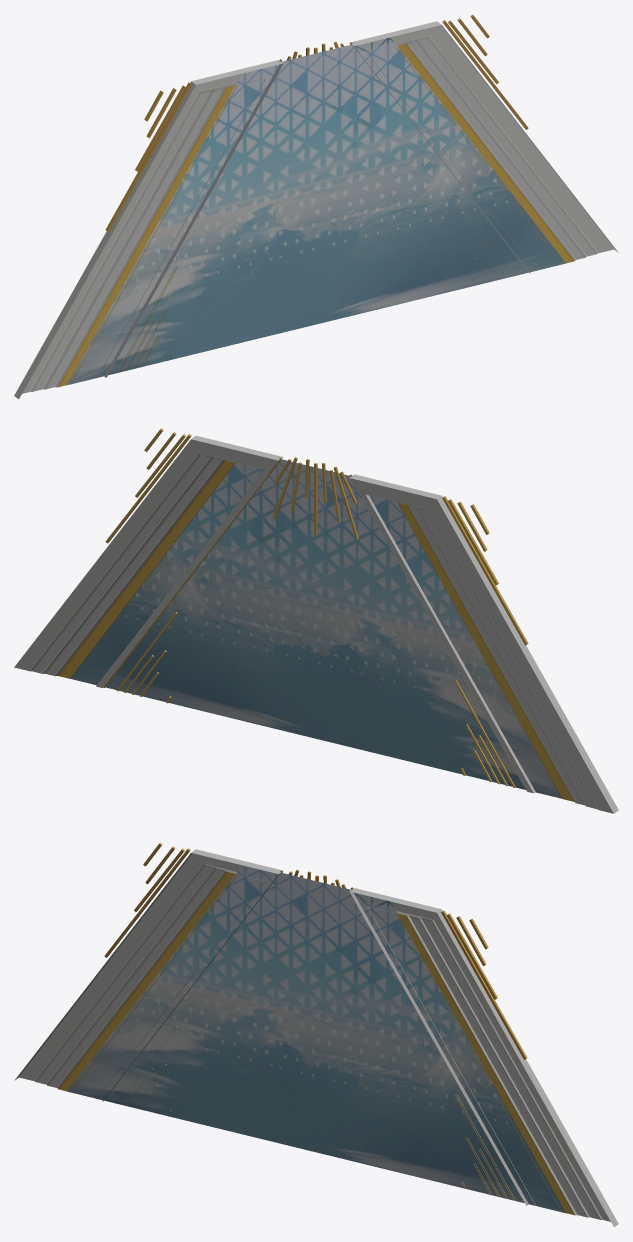
The model's file is furn_ab2024_walldeco02.gltf.
The picture shows the model from 3 angles, top to bottom: view 1: azimuth 30°, elevation 25°; view 2: azimuth 150°, elevation 25°; view 3: azimuth 330°, elevation 25°; orthographic projection.
Visible parts, largest first — view 1: ab2024_walldeco02; view 2: ab2024_walldeco02; view 3: ab2024_walldeco02.
Boxes of the visible parts, x1,y1,x2,y2 form: ab2024_walldeco02: [14, 14, 618, 399]; ab2024_walldeco02: [14, 428, 618, 813]; ab2024_walldeco02: [14, 842, 618, 1227].
Size of the model in its own units: 5.55 by 2.46 by 0.0787.
2 materials, 2 textured.
